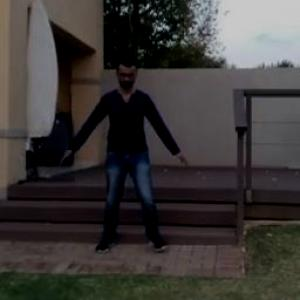land: (55, 57, 179, 262)
